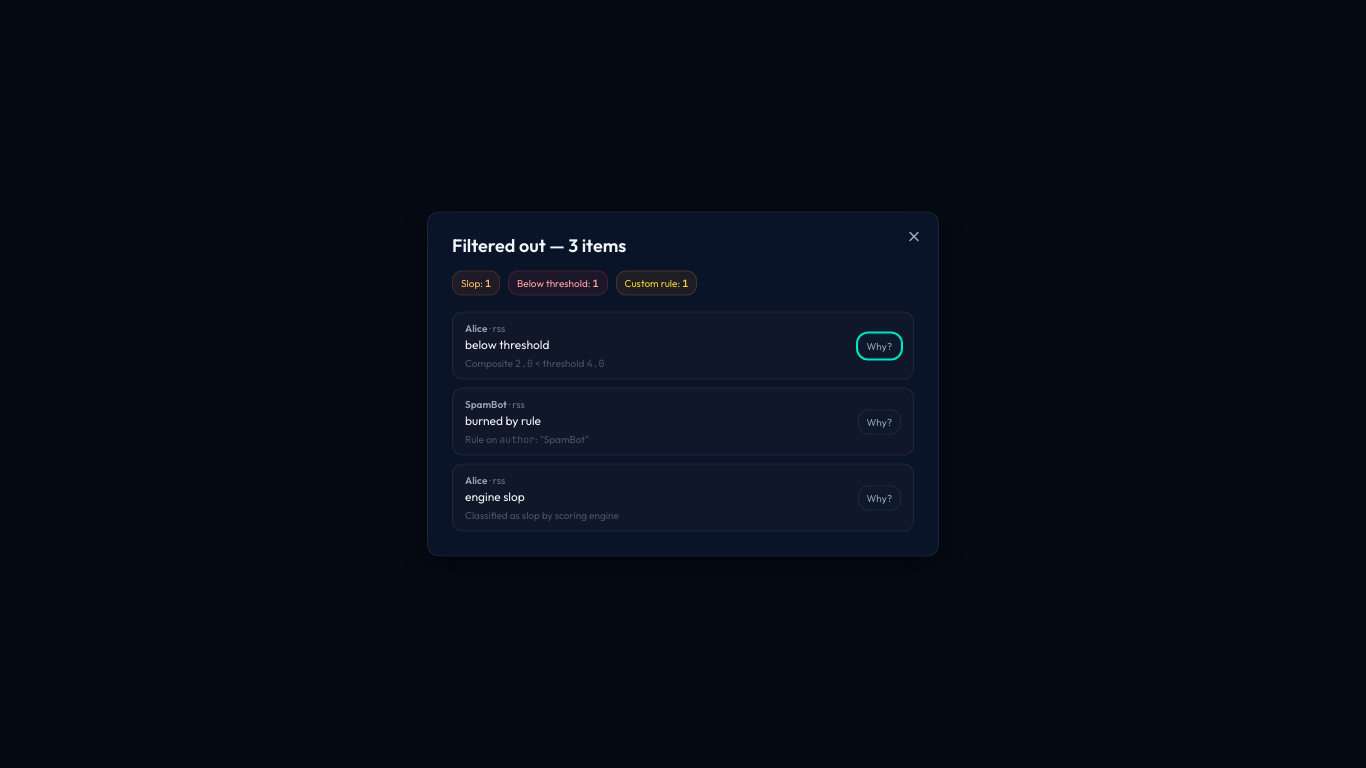
Test: Pipeline → BurnedItemsDrawer → WhyFilteredModal — full integration › classifies and surfaces all three burn categories from real pipeline output
expect the heading "Filtered out — 3 items" is shown: met, box 452,234 -> 626,256
expect the text "below threshold" is shown: met, box 465,336 -> 549,352
Click the button "Why?" in the row of "burned by rule" at {"x": 879, "y": 422}, box 858,409 -> 901,434
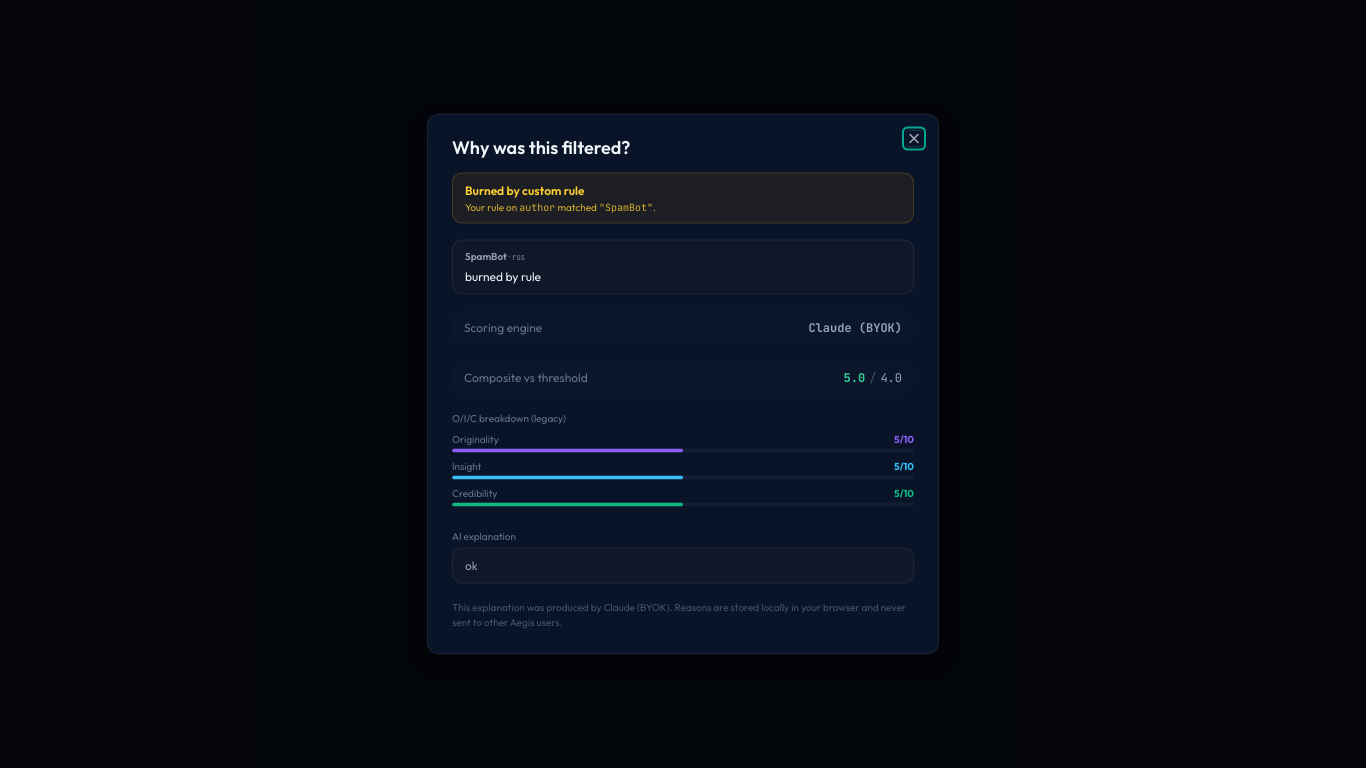
expect the dialog with test id "why-filtered-modal" is shown: met, box 427,114 -> 939,654
expect the text "Burned by custom rule" is shown: met, box 465,182 -> 584,198
